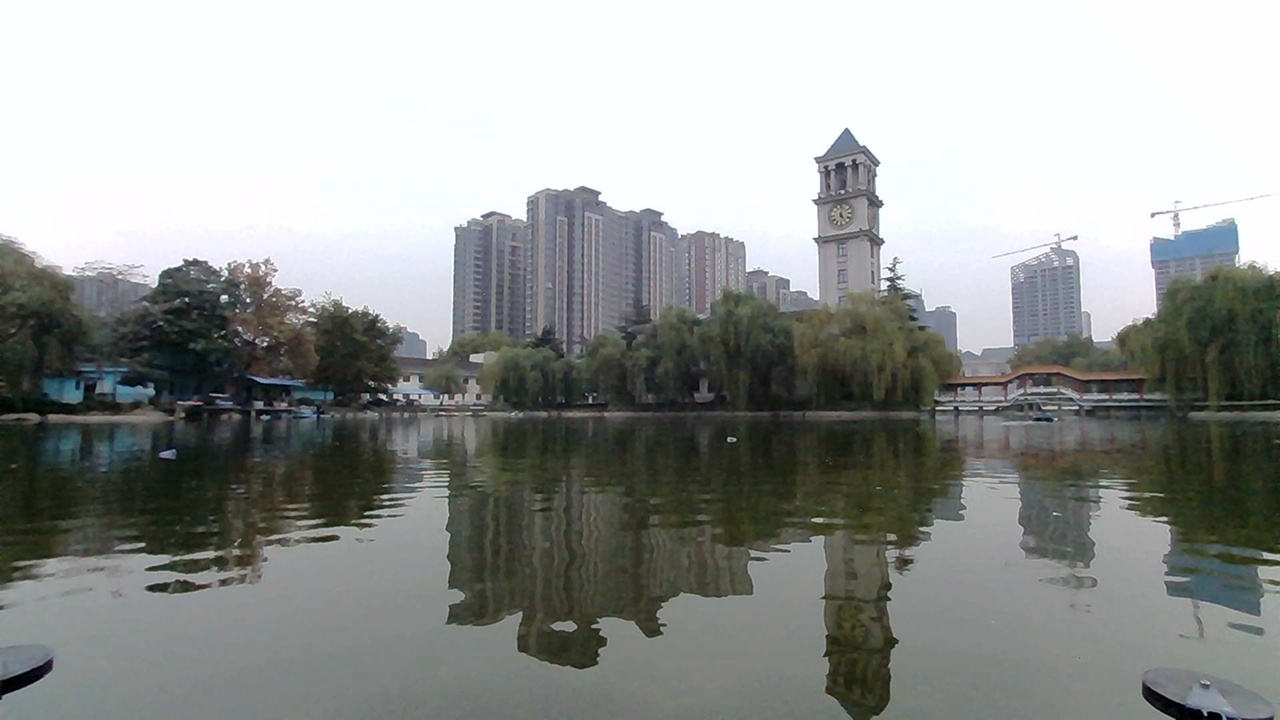bottle: (153, 432, 202, 469), (712, 421, 755, 450)
